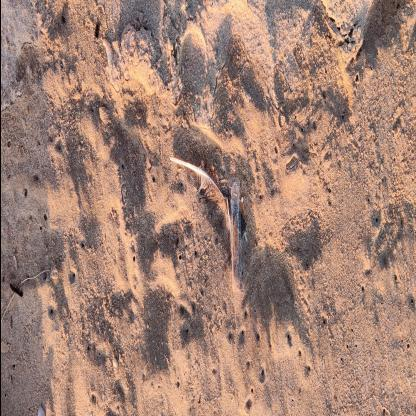plastik: (229, 179, 243, 293)
